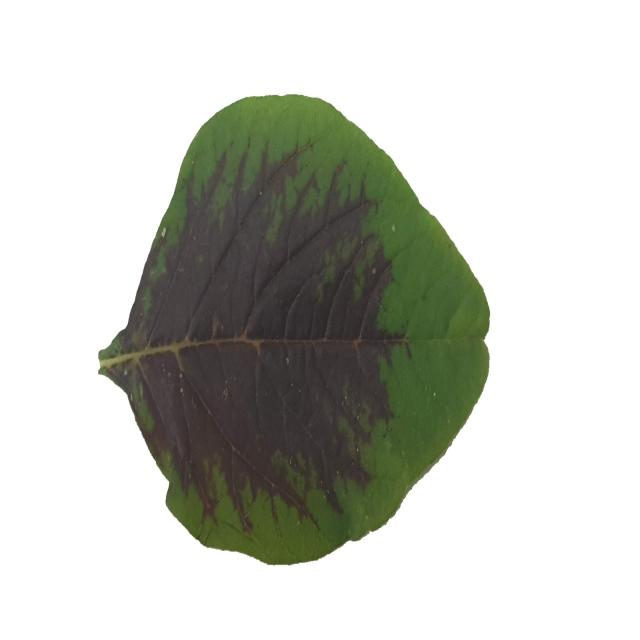Medicinal-Arive Dantu: (101, 91, 489, 559)
